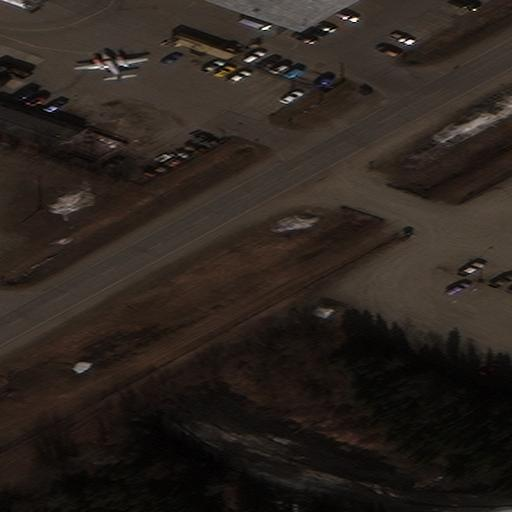Small Civil Transport: (73, 53, 146, 80)
